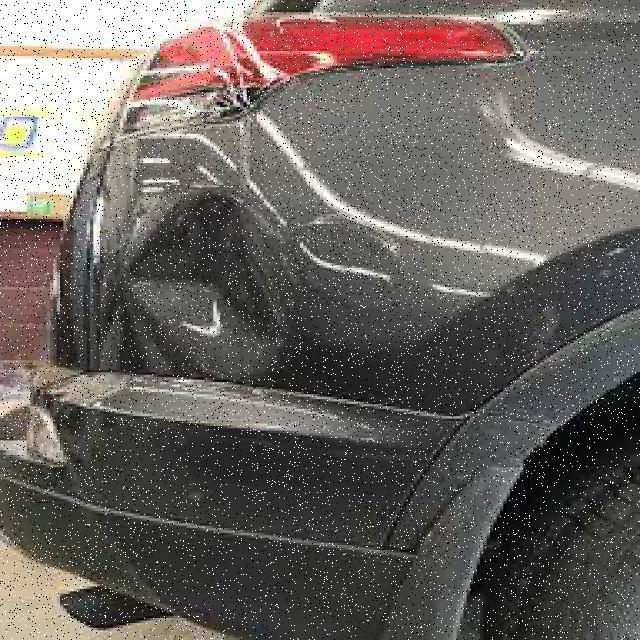quaterpanel-dent: (0, 64, 636, 463)
